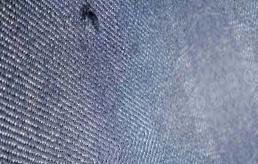knot: (81, 8, 103, 35)
